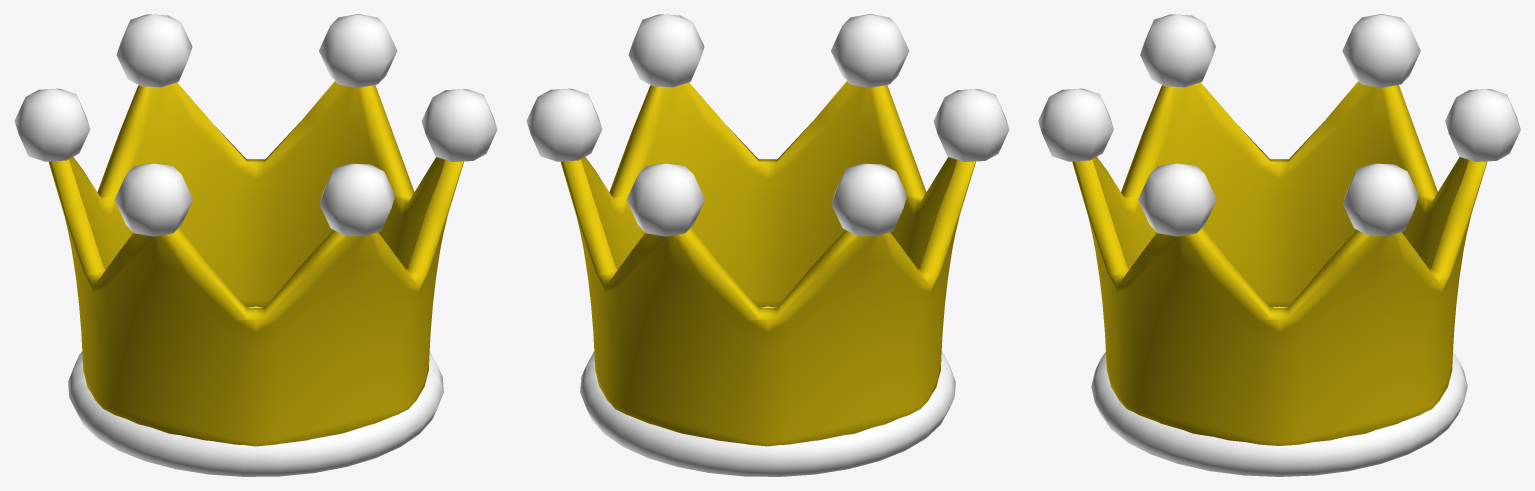
Rendered from brawler-crown.glb.
The picture shows the model from 3 angles, left to right: view 1: azimuth 30°, elevation 25°; view 2: azimuth 150°, elevation 25°; view 3: azimuth 270°, elevation 25°; orthographic projection.
Visible parts, largest first — view 1: Cylinder, Torus.001, Sphere.002, Sphere.005, Sphere.004, Sphere.003, Sphere, Sphere.001; view 2: Cylinder, Torus.001, Sphere.001, Sphere.004, Sphere, Sphere.005, Sphere.002, Sphere.003; view 3: Cylinder, Torus.001, Sphere, Sphere.003, Sphere.002, Sphere.001, Sphere.005, Sphere.004.
Part boxes in pixels (<box>): Cylinder: <box>48,81,463,446</box>; Torus.001: <box>68,306,443,476</box>; Sphere.002: <box>114,163,192,236</box>; Sphere.005: <box>319,14,397,87</box>; Sphere.004: <box>116,14,192,87</box>; Sphere.003: <box>14,88,90,161</box>; Sphere: <box>421,89,497,161</box>; Sphere.001: <box>319,163,395,236</box>; Cylinder: <box>560,81,975,446</box>; Torus.001: <box>580,306,955,476</box>; Sphere.001: <box>831,14,909,87</box>; Sphere.004: <box>626,163,704,236</box>; Sphere: <box>628,14,704,87</box>; Sphere.005: <box>526,88,602,161</box>; Sphere.002: <box>933,89,1009,161</box>; Sphere.003: <box>831,163,907,236</box>; Cylinder: <box>1072,81,1487,445</box>; Torus.001: <box>1091,306,1467,476</box>; Sphere: <box>1138,162,1216,236</box>; Sphere.003: <box>1342,14,1420,87</box>; Sphere.002: <box>1140,14,1215,87</box>; Sphere.001: <box>1038,88,1113,161</box>; Sphere.005: <box>1343,163,1418,236</box>; Sphere.004: <box>1445,89,1520,161</box>.
Size of the model in its own units: 2.1 by 1.7 by 2.36.
